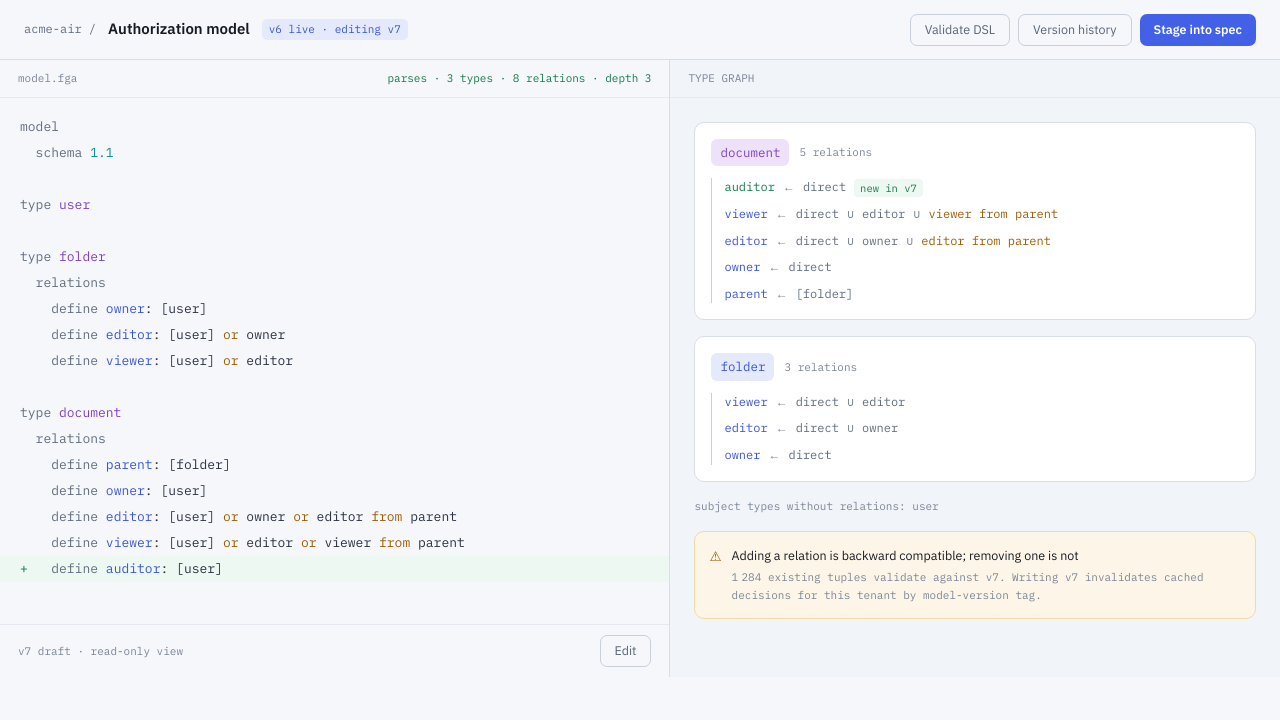
AuthorizationModelView › posts the draft to /validate with an Idempotency-Key and shows the result inline
The image size is (1280, 720).
Expected: the text "v6 live · editing v7" is shown, [262,19,408,40]
Click the button "Validate DSL" at [960, 30], box [910,14,1010,46]
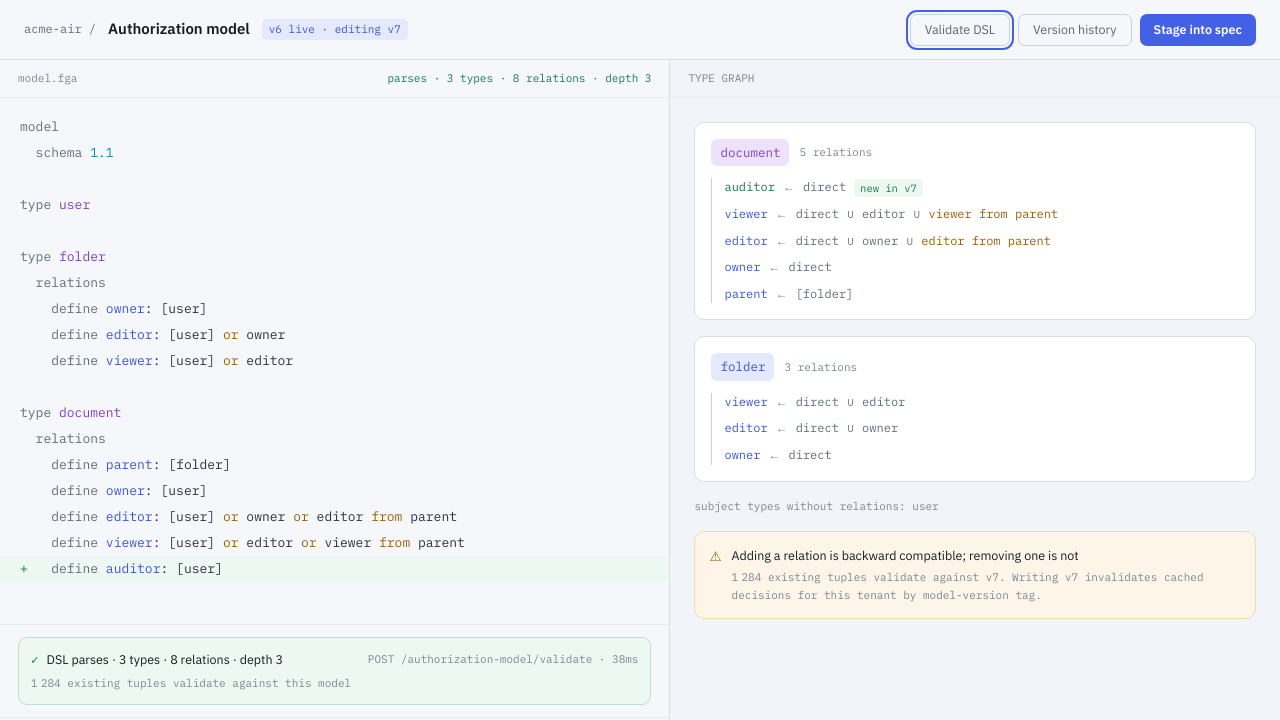
Expected: the text "DSL parses · 3 types · 8 relations · depth 3" is shown, [46,650,283,669]
Expected: the text "POST /authorization-model/validate · 38ms" is shown, [368,651,638,668]
